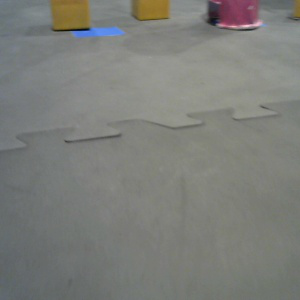Right: (205, 1, 264, 29)
